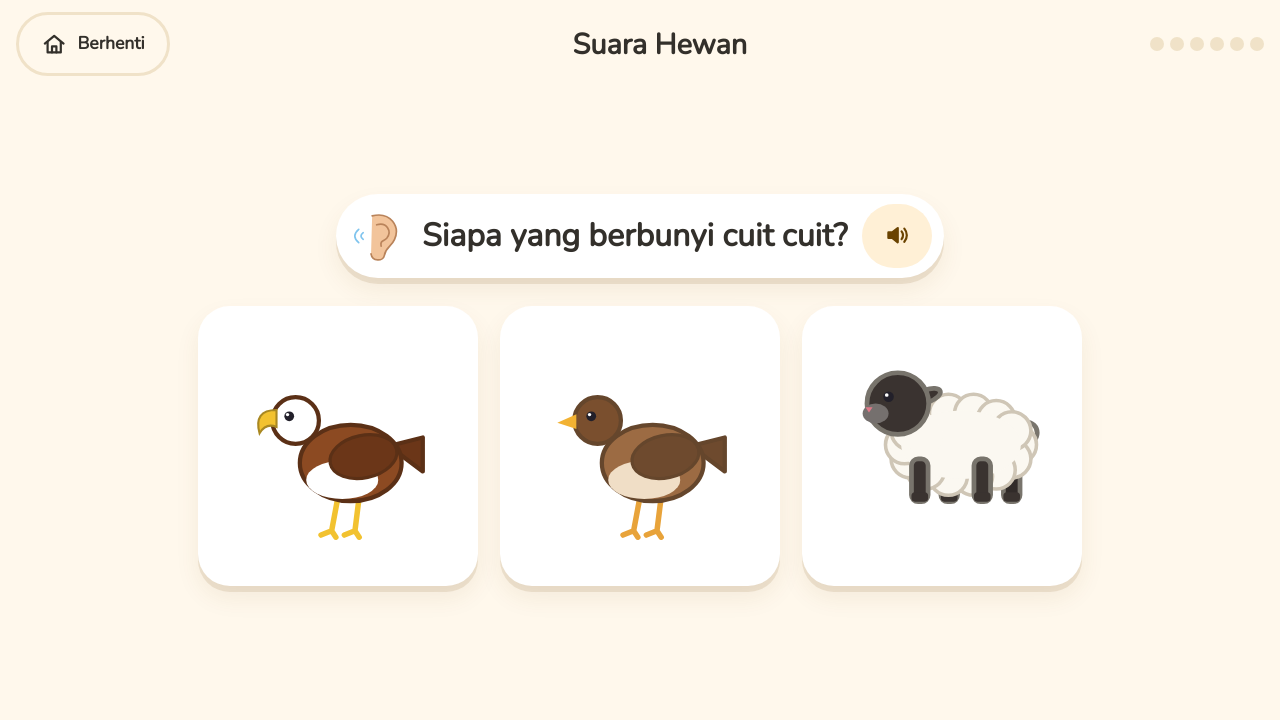
Test: Suara Hewan: satu sesi penuh › jumlah pilihan sesuai usia, lalu layar hadiah
Click the 2nd button with class "choice": (640, 446) [500,306,780,586]
Wait 2500 ms
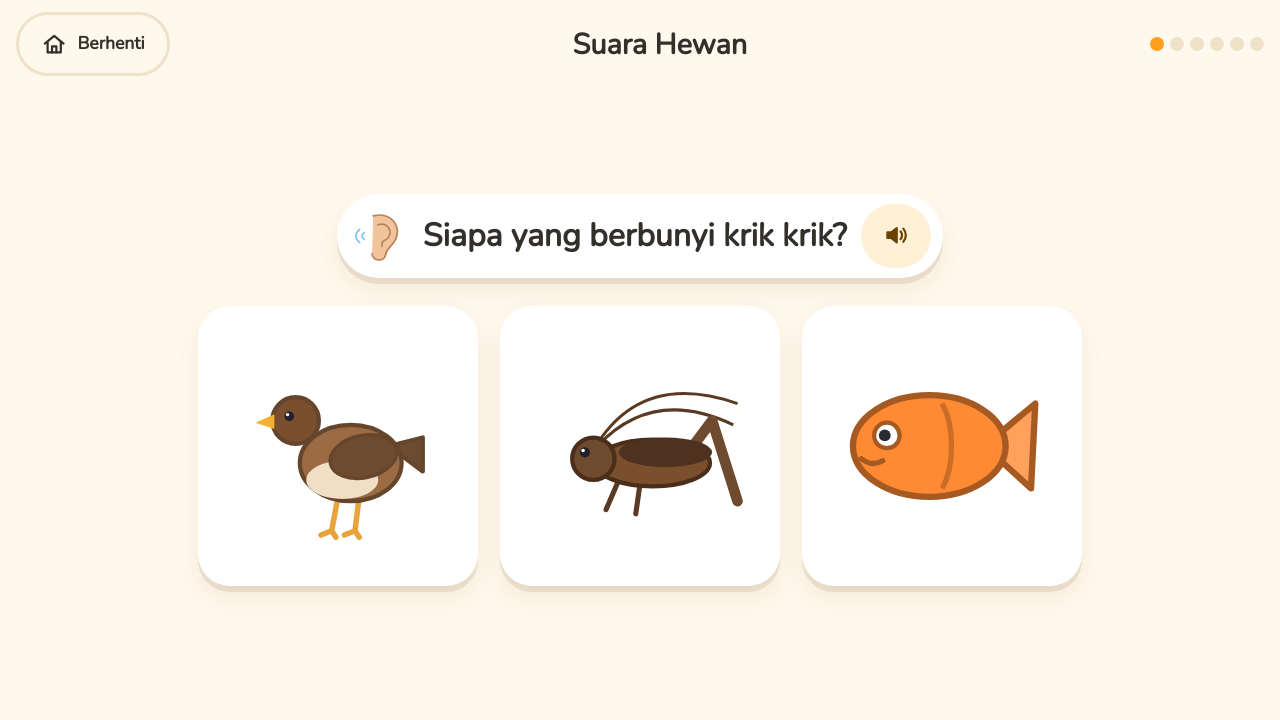
Click the 2nd button with class "choice": (640, 446) [500,306,780,586]
Wait 2500 ms
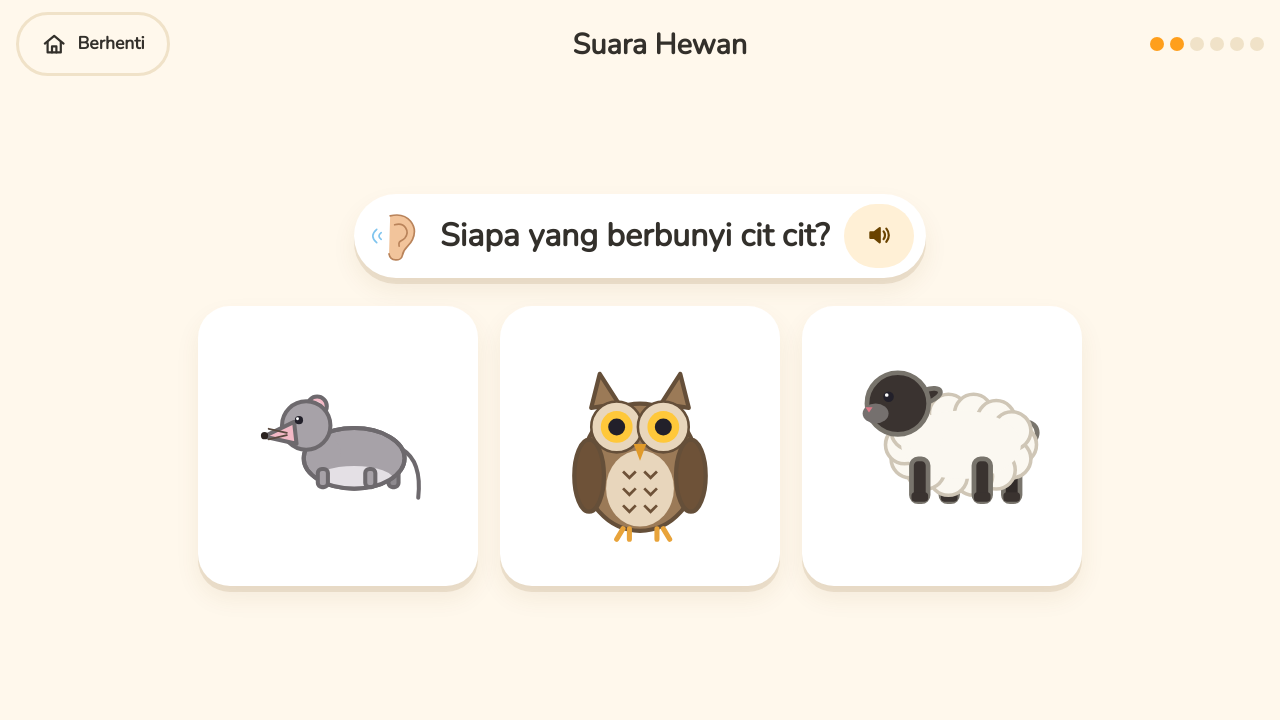
Click the 1st button with class "choice": (338, 446) [198,306,478,586]
Wait 2500 ms
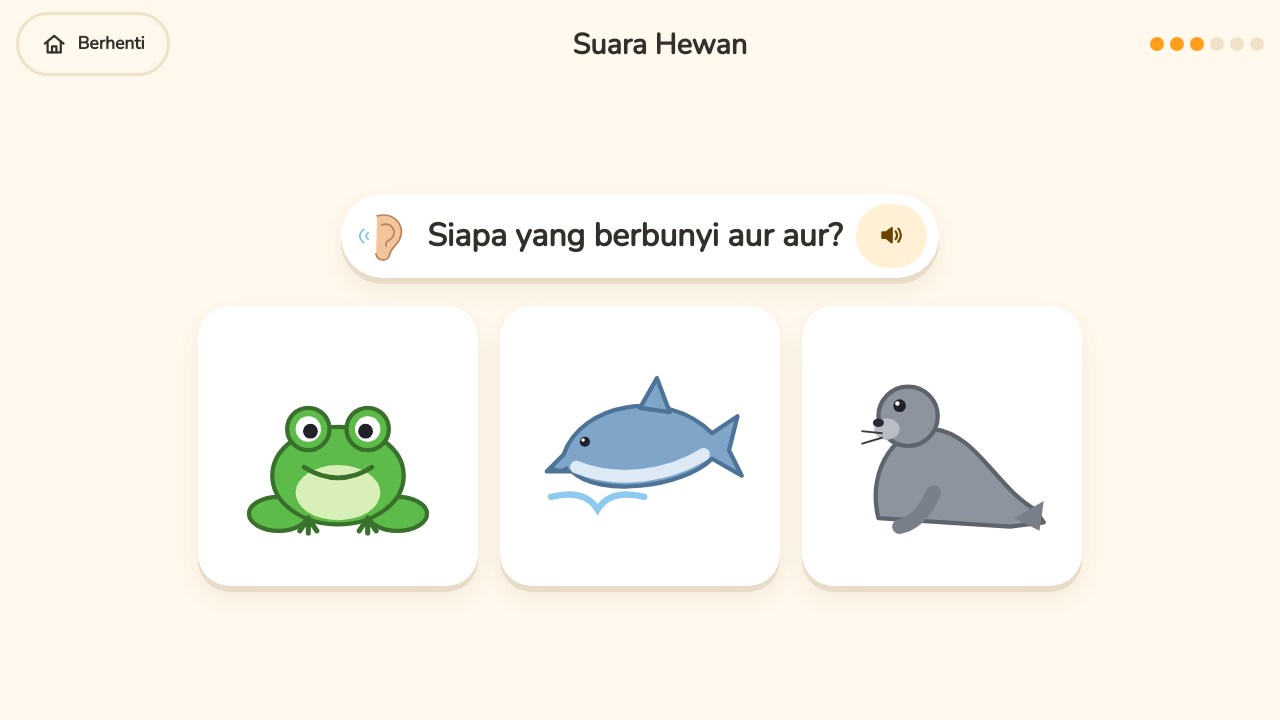
Click the 3rd button with class "choice": (942, 446) [802,306,1082,586]
Wait 2500 ms
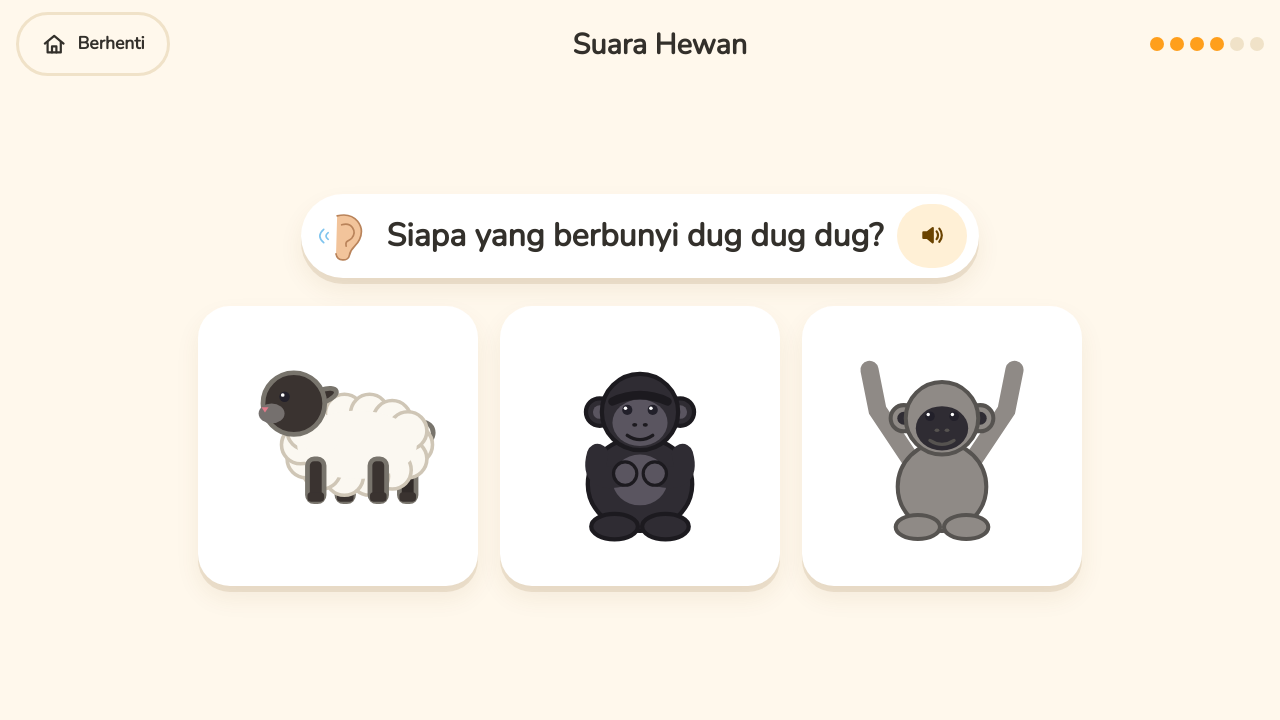
Click the 2nd button with class "choice": (640, 446) [500,306,780,586]
Wait 2500 ms
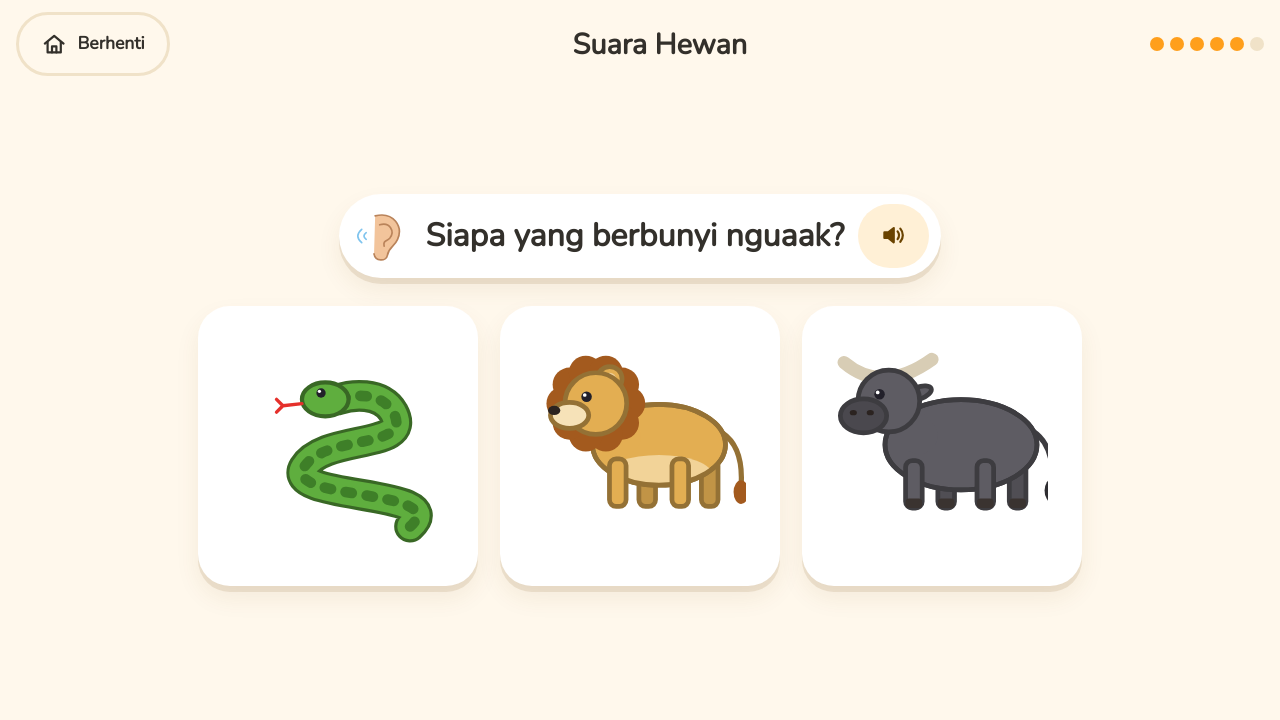
Click the 3rd button with class "choice": (942, 446) [802,306,1082,586]
Wait 2500 ms
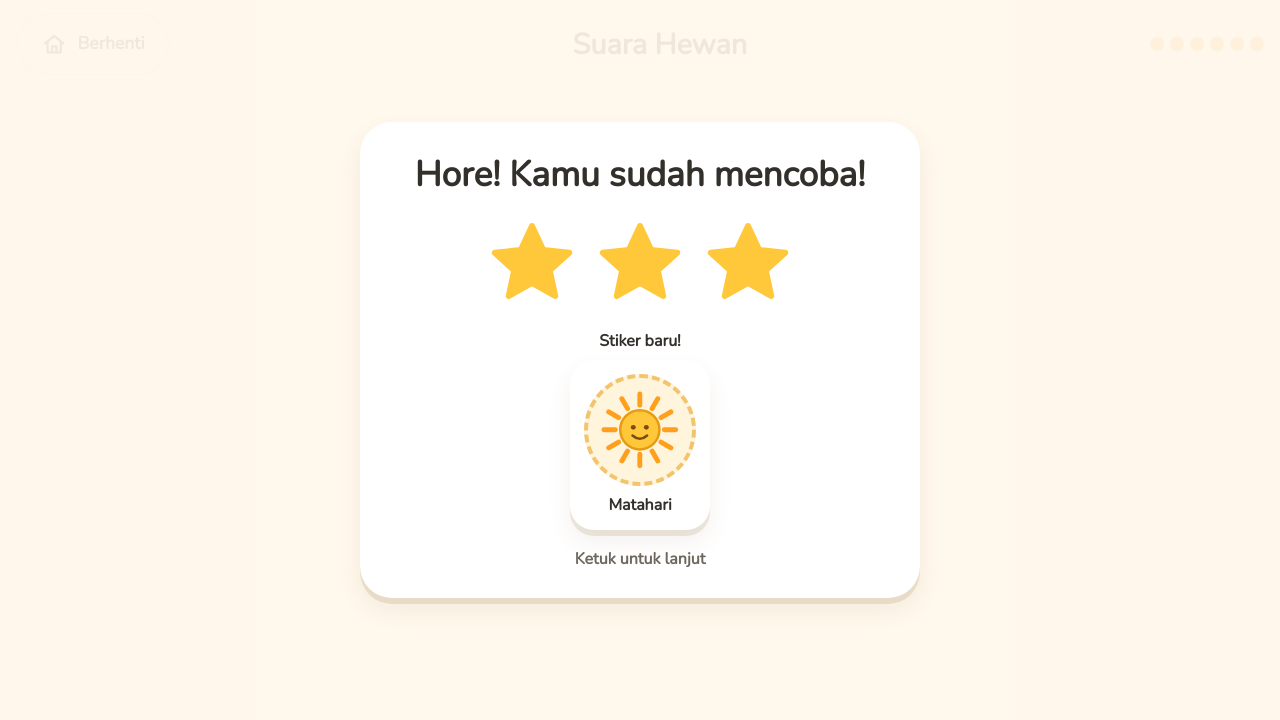
Result: the dialog named "Hadiah" is shown
